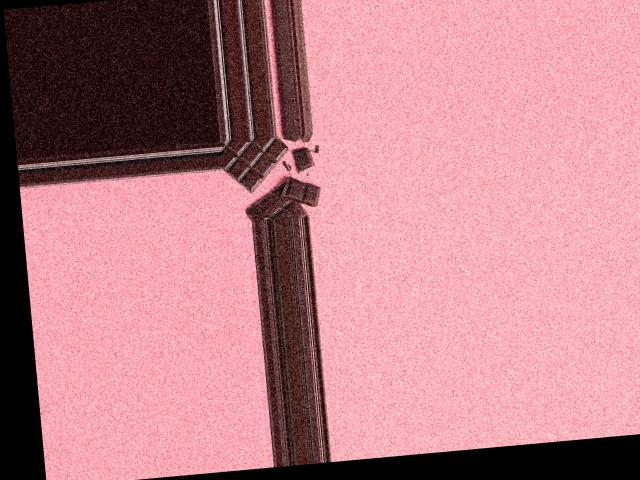chocolate: (219, 133, 317, 218)
